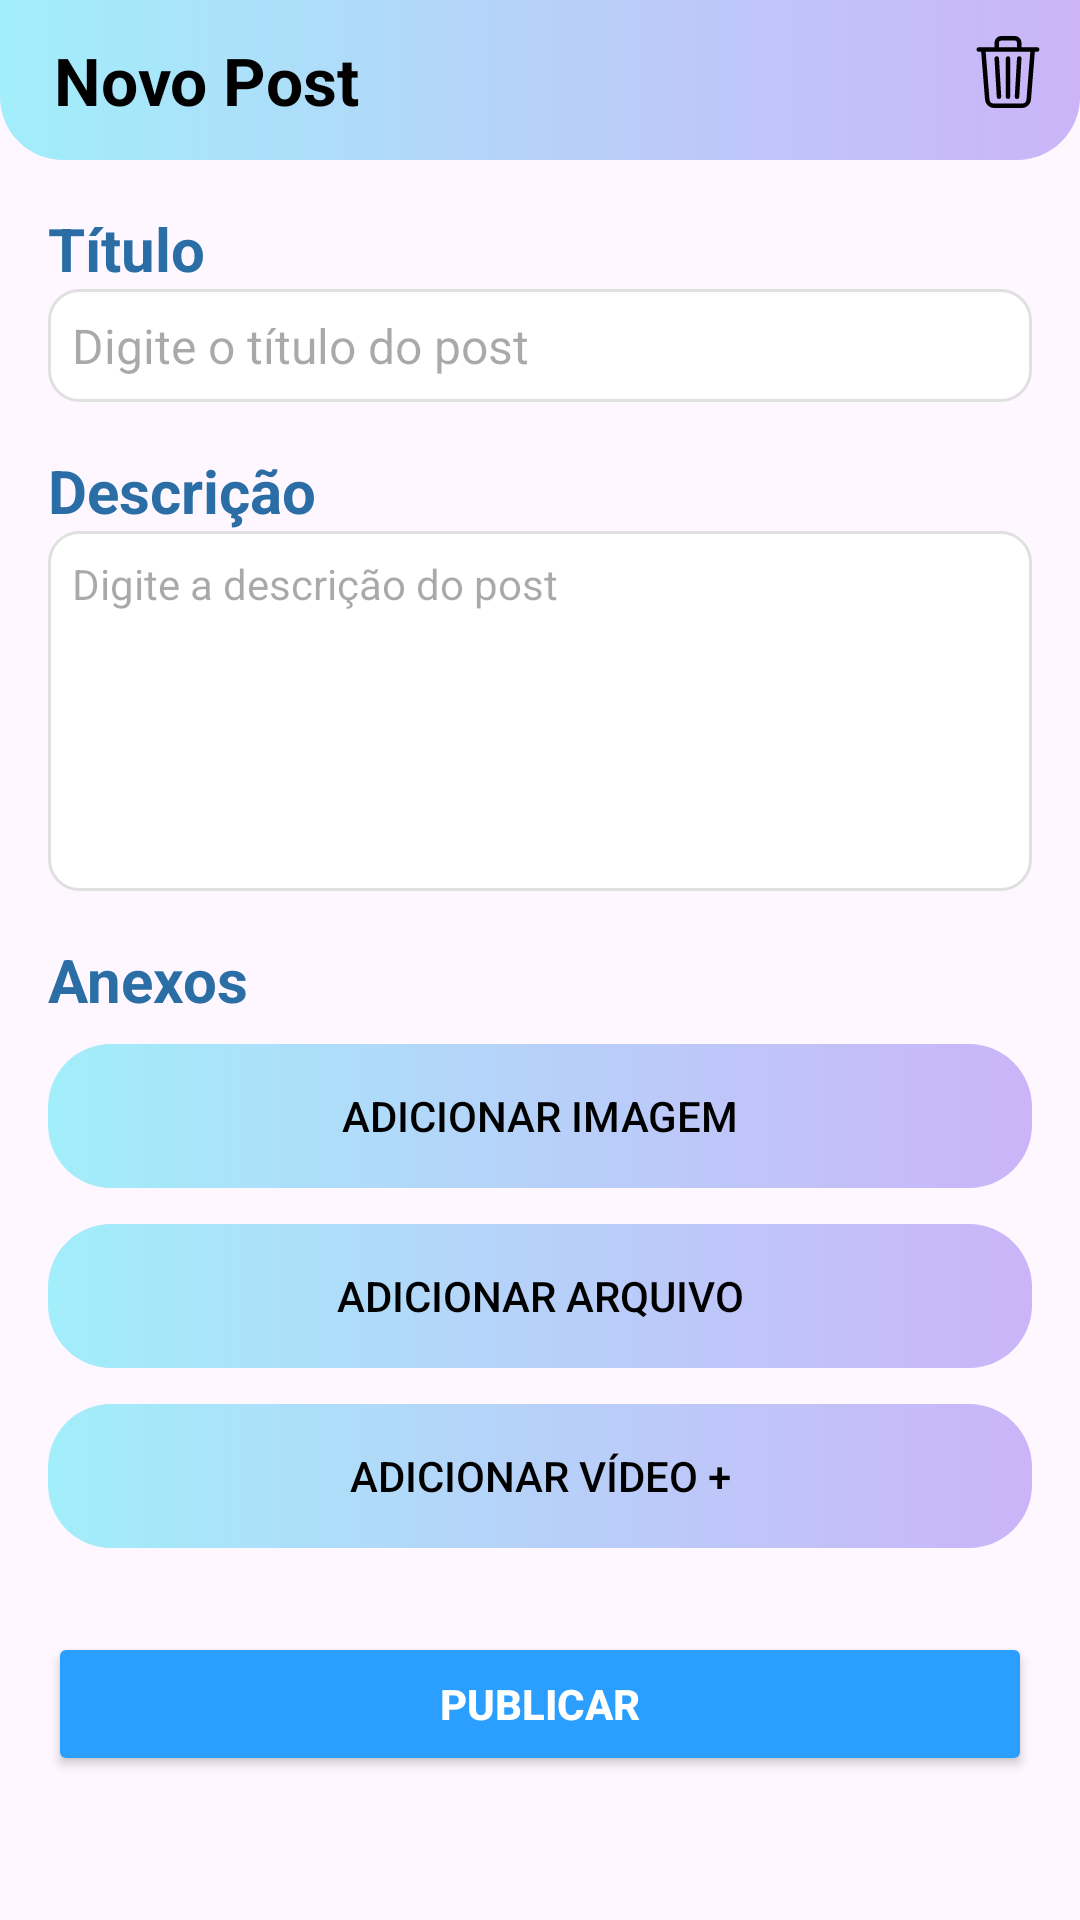

Where icons sit on this 1080×1920 app screen, as [left=x1, top=y1, right=x2, bottom=y2]:
delete: [left=976, top=36, right=1040, bottom=108]
